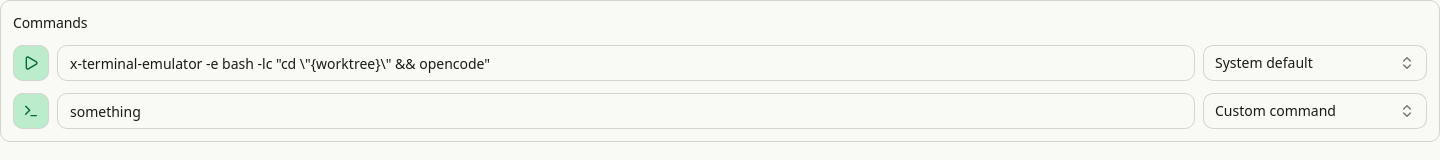
Test: CommandsSettingsForm › updates open terminal template when typing a matching command
This screenshot has width=1440, height=160.
Expected: the button with aria-label "select open terminal template" reads "Custom command", 1203,93 -> 1427,129
Step 1. Replace the text in the field with id "open-terminal-at-worktree-command" with "__groove_terminal_open__" → (626, 111), box 57,93 -> 1195,129
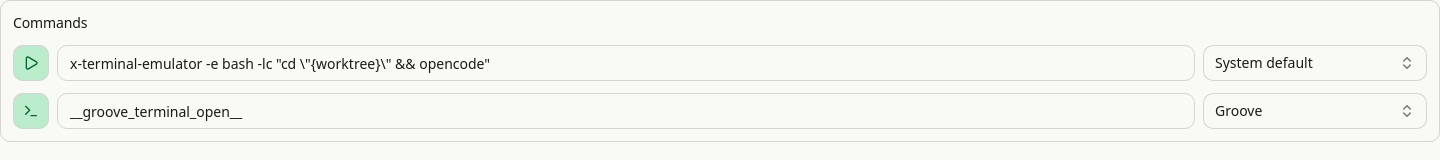
Expected: the button with aria-label "select open terminal template" reads "Groove", 1203,93 -> 1427,129
